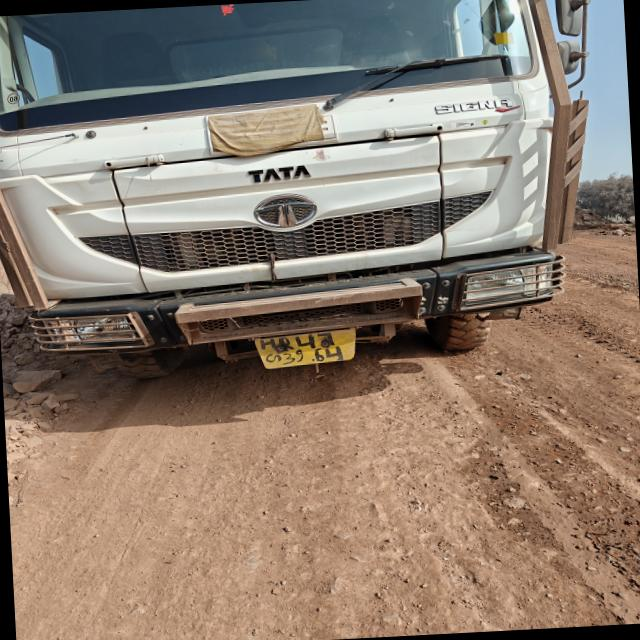license_plate: (256, 328, 356, 369)
